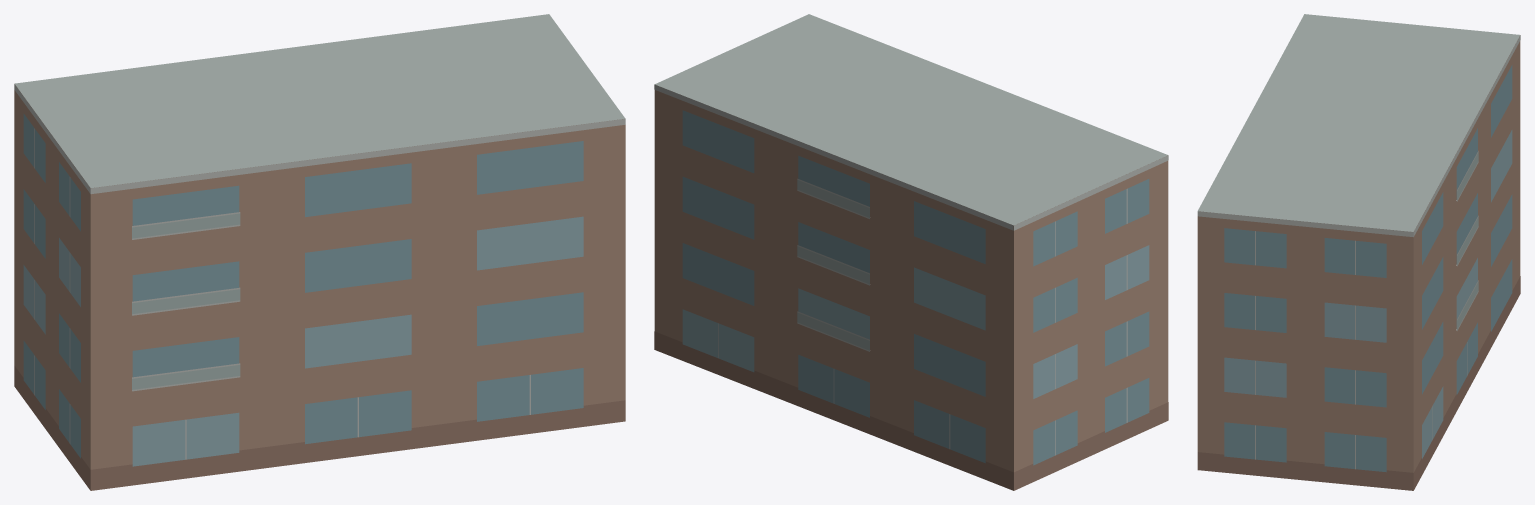
The model's file is residential-00847ab1-c03d-4fec-b8b3-952c13a948d7.glb.
The picture shows the model from 3 angles, left to right: view 1: azimuth 30°, elevation 25°; view 2: azimuth 150°, elevation 25°; view 3: azimuth 270°, elevation 25°; orthographic projection. The views are drawn at different scales.
Parts seen in each view (by area): view 1: residential-00847ab1-c03d-4fec-b8b3-952c13a948d7.tmp; view 2: residential-00847ab1-c03d-4fec-b8b3-952c13a948d7.tmp; view 3: residential-00847ab1-c03d-4fec-b8b3-952c13a948d7.tmp.
Part boxes in pixels (<box>): residential-00847ab1-c03d-4fec-b8b3-952c13a948d7.tmp: <box>14,14,625,490</box>; residential-00847ab1-c03d-4fec-b8b3-952c13a948d7.tmp: <box>654,14,1168,490</box>; residential-00847ab1-c03d-4fec-b8b3-952c13a948d7.tmp: <box>1197,14,1520,490</box>.
Bounding box in the file's own units: 22.04 × 12.2 × 13.8.
